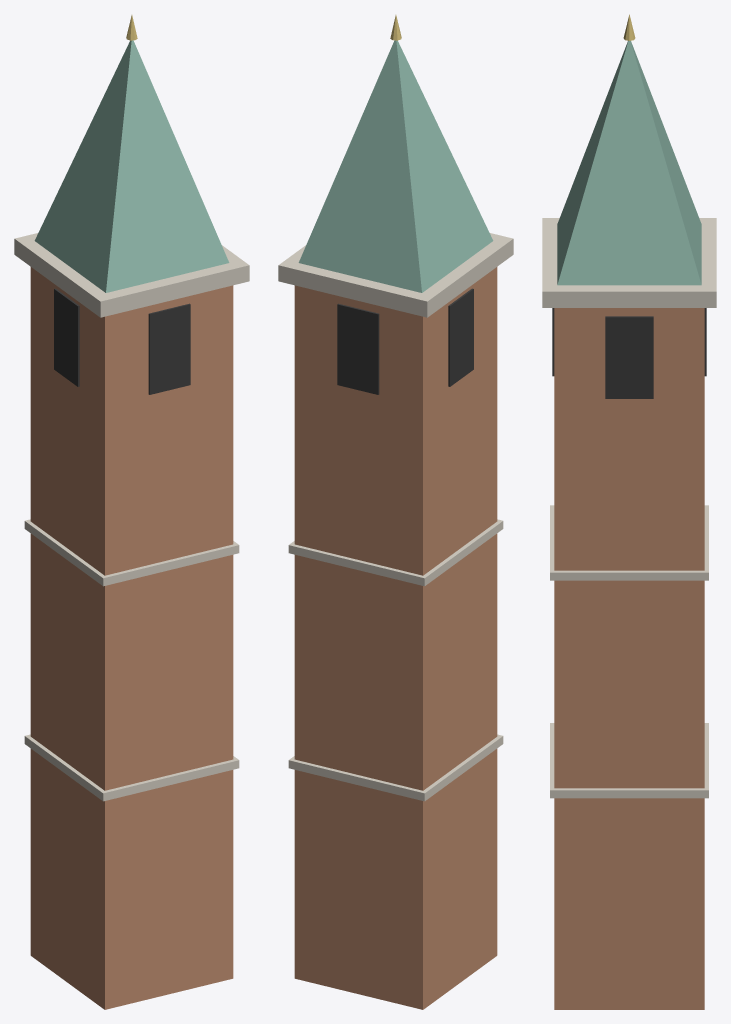
Rendered from Campanile.glb.
The picture shows the model from 3 angles, left to right: view 1: azimuth 30°, elevation 25°; view 2: azimuth 150°, elevation 25°; view 3: azimuth 270°, elevation 25°; orthographic projection.
Visible parts, largest first — view 1: Shaft, Spire, Belfry cornice, Belfry arch.003, String course, String course.001, Belfry arch.002; view 2: Shaft, Spire, Belfry cornice, Belfry arch.001, String course, String course.001, Belfry arch.002; view 3: Shaft, Spire, Belfry cornice, Belfry arch, String course, String course.001.
Boxes of the visible parts, <box> form: Shaft: <box>30,267,233,1009</box>; Spire: <box>34,40,229,292</box>; Belfry cornice: <box>14,233,249,317</box>; Belfry arch.003: <box>148,303,190,394</box>; String course: <box>24,734,239,801</box>; String course.001: <box>24,519,239,586</box>; Belfry arch.002: <box>54,288,79,386</box>; Shaft: <box>294,267,497,1009</box>; Spire: <box>298,40,493,292</box>; Belfry cornice: <box>278,233,513,317</box>; Belfry arch.001: <box>337,303,379,394</box>; String course: <box>288,734,503,801</box>; String course.001: <box>288,519,503,586</box>; Belfry arch.002: <box>448,288,473,386</box>; Shaft: <box>554,308,704,1009</box>; Spire: <box>557,41,701,285</box>; Belfry cornice: <box>542,218,716,307</box>; Belfry arch: <box>605,316,653,398</box>; String course: <box>550,723,708,798</box>; String course.001: <box>550,505,708,580</box>.
Size of the model in its own units: 5.8 by 35.45 by 5.8.
